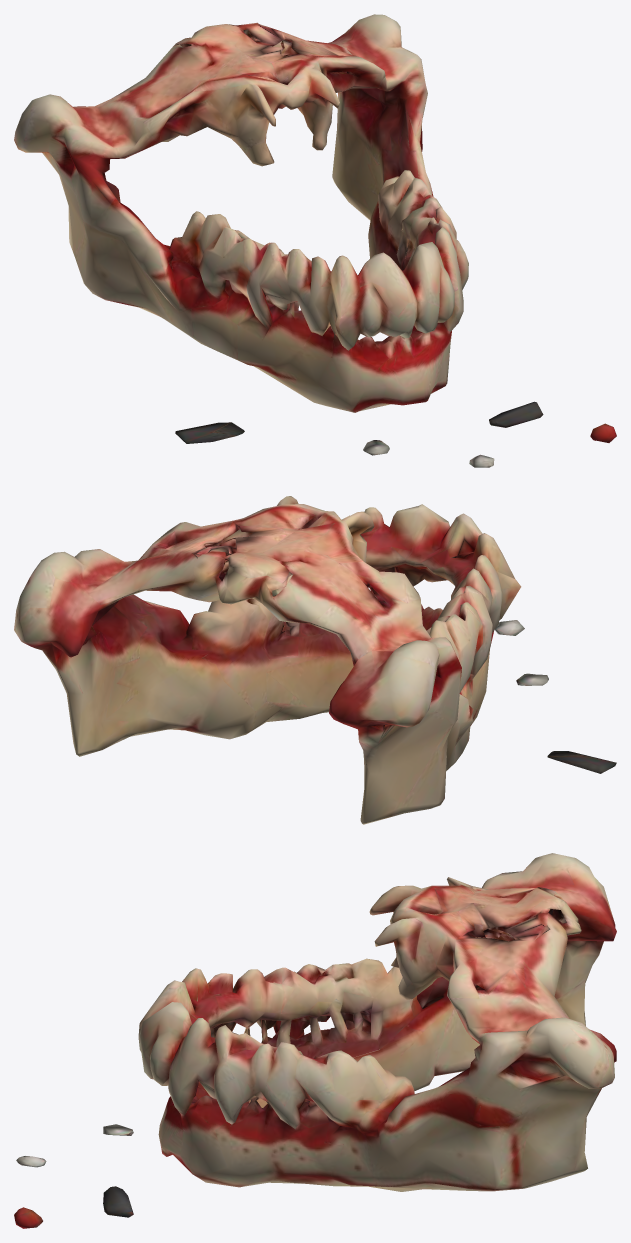
File: jaw.glb
The picture shows the model from 3 angles, top to bottom: view 1: azimuth 30°, elevation 25°; view 2: azimuth 150°, elevation 25°; view 3: azimuth 270°, elevation 25°; orthographic projection. The views are drawn at different scales.
Parts seen in each view (by area): view 1: Mesh_0; view 2: Mesh_0; view 3: Mesh_0.
Boxes of the visible parts, x1,y1,x2,y2 form: Mesh_0: (14, 14, 616, 467); Mesh_0: (14, 496, 616, 824); Mesh_0: (14, 853, 616, 1228).
Bounding box in the file's own units: 1.47 × 0.9715 × 2.
1 material, 1 textured.
